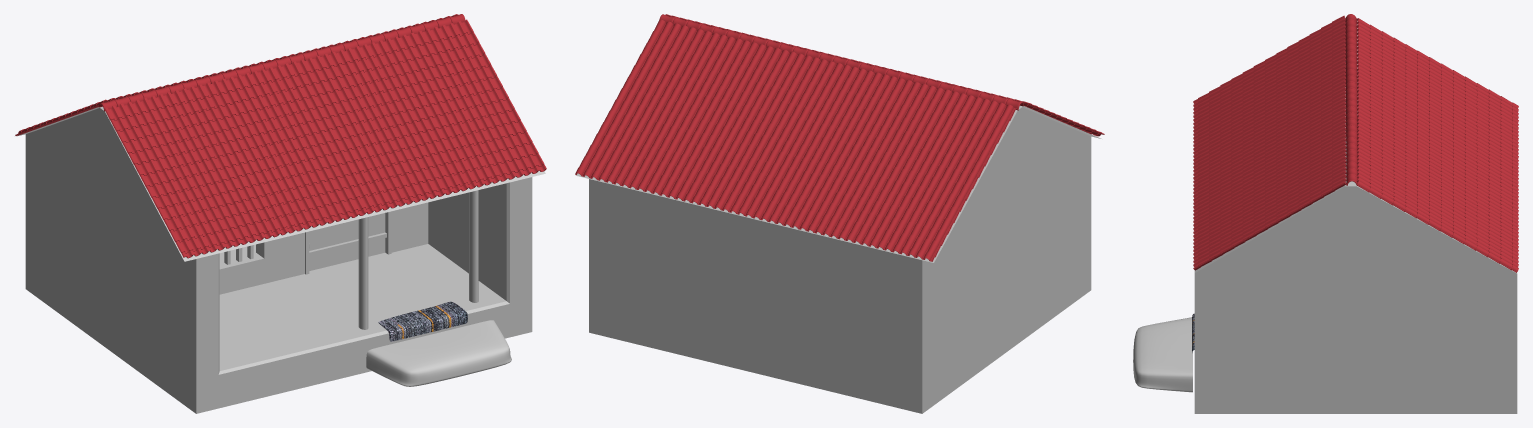
The model's file is rumah-kampung.fbx.
3 renders of one model, left to right at view 1: azimuth 30°, elevation 25°; view 2: azimuth 150°, elevation 25°; view 3: azimuth 270°, elevation 25°, orthographic. The views are drawn at different scales.
Parts seen in each view (by area): view 1: rumah, shingles 2, tangga, rooftop, door.001, mat, palang 1, shingles 1, palang 2; view 2: rumah, shingles 1, rooftop, shingles 2; view 3: rumah, shingles 1, shingles 2, tangga, rooftop.
Boxes of the visible parts, <box> form: rumah: <box>16,106,545,413</box>; shingles 2: <box>104,19,546,258</box>; tangga: <box>366,320,511,386</box>; rooftop: <box>98,14,465,111</box>; door.001: <box>309,213,385,270</box>; mat: <box>378,301,467,341</box>; palang 1: <box>358,217,368,329</box>; shingles 1: <box>15,14,458,135</box>; palang 2: <box>469,190,478,302</box>; rumah: <box>575,105,1101,413</box>; shingles 1: <box>575,19,1016,261</box>; rooftop: <box>659,14,1023,110</box>; shingles 2: <box>665,14,1104,136</box>; rumah: <box>1194,21,1517,413</box>; shingles 1: <box>1356,18,1518,272</box>; shingles 2: <box>1193,15,1346,270</box>; tangga: <box>1133,317,1192,392</box>; rooftop: <box>1345,14,1357,185</box>.
Size of what is drawn, in the model's own units: 492 by 328 by 478.
